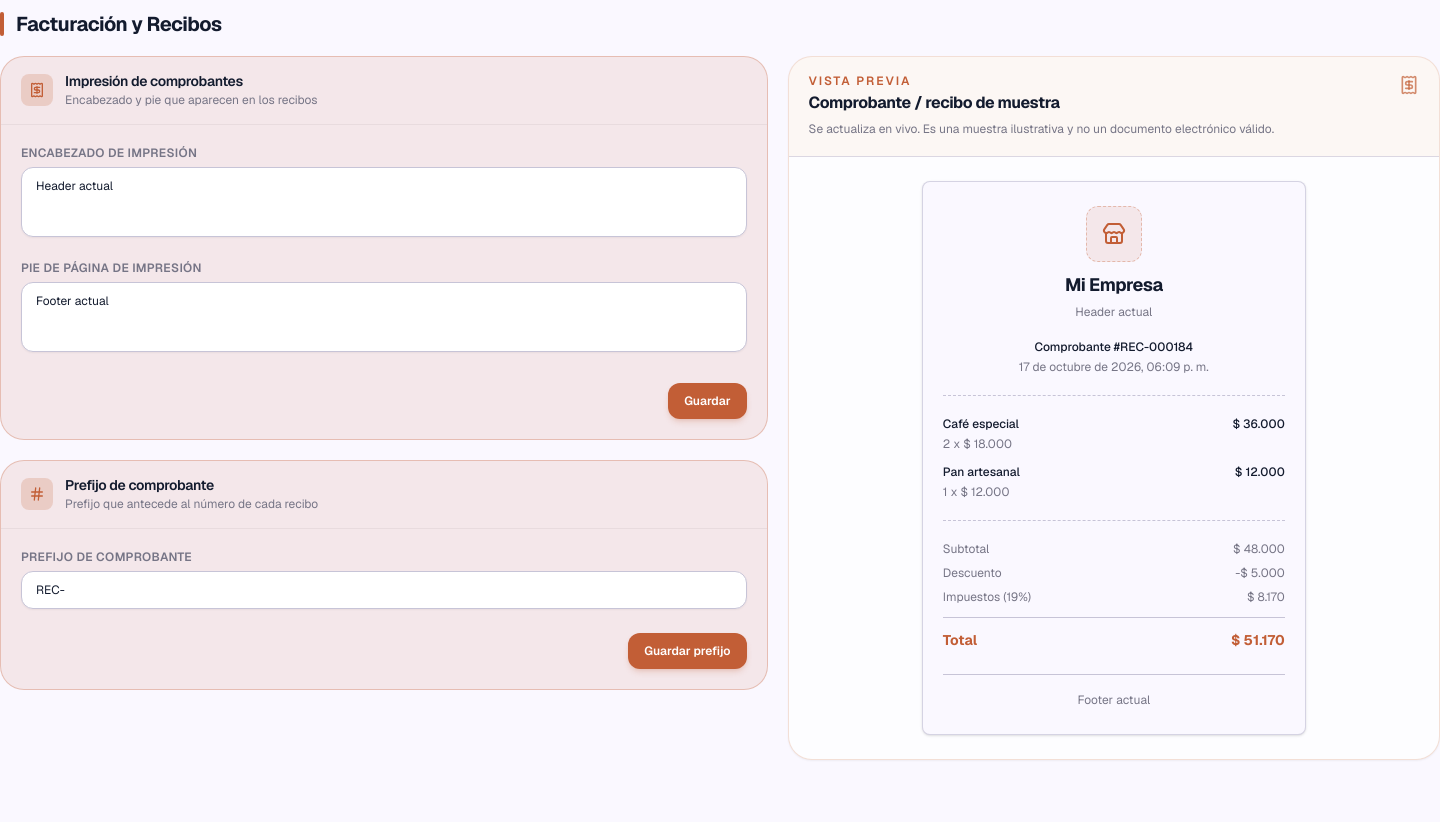
Test case: Invoicing & Receipts settings page › updates the preview as the form values change
Replace the text in the text box labelled "Encabezado de Impresión" with "Nuevo encabezado" at (384, 202), box [21,167,747,237]
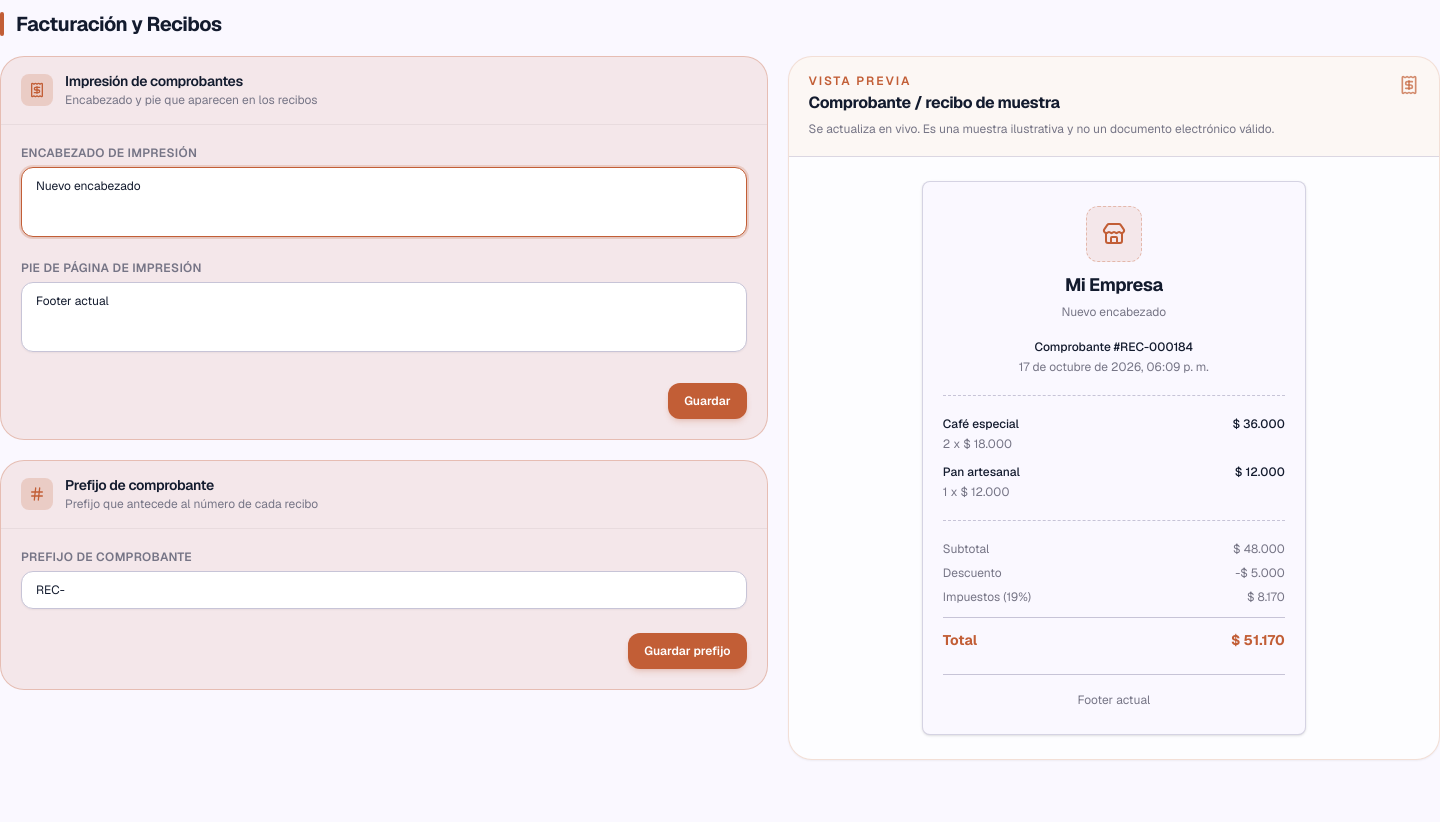
Replace the text in the field labelled "Prefijo de comprobante" with "FAC-" at (384, 590), box [21,571,747,609]
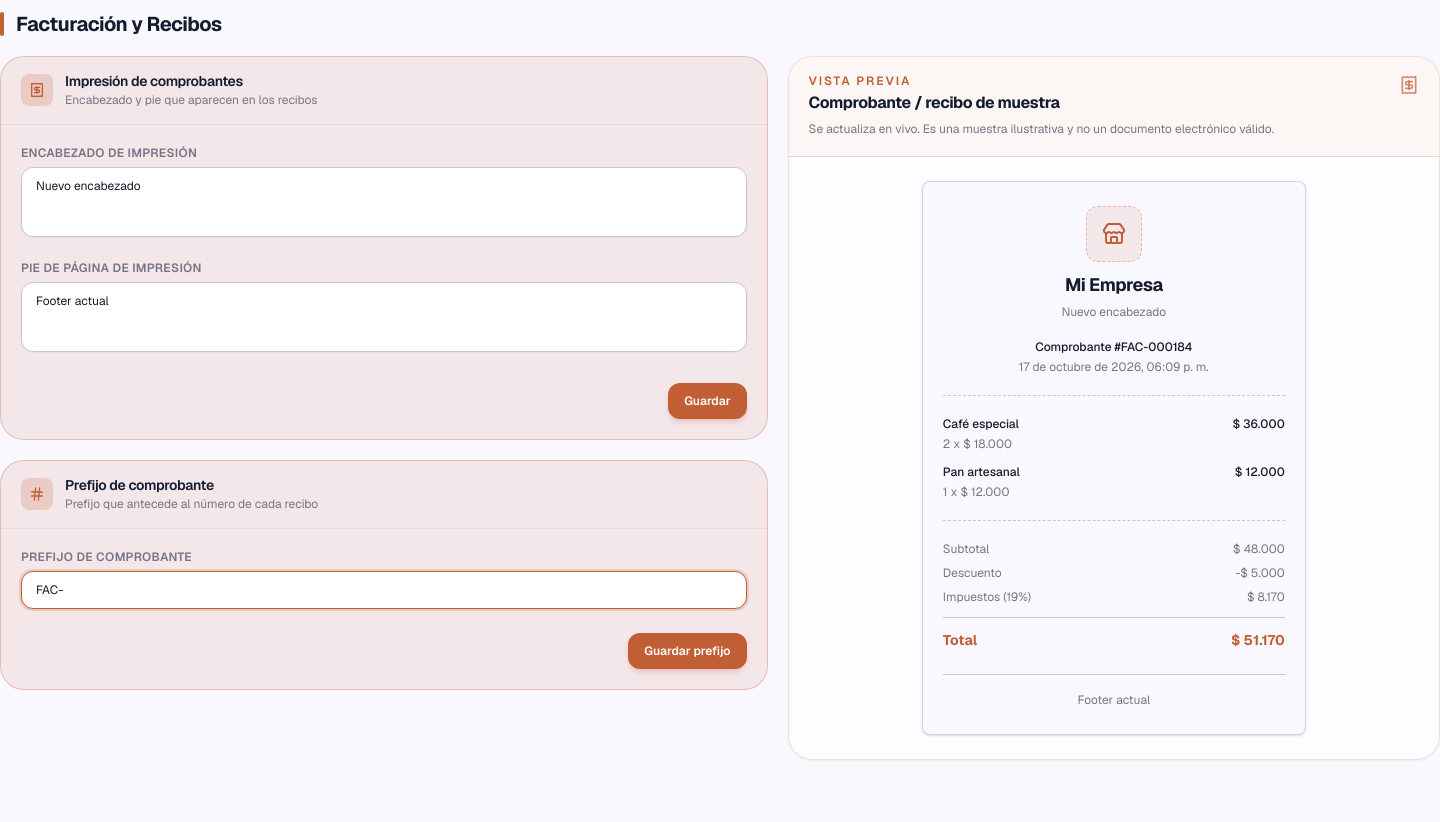
Now the text "Nuevo encabezado" is shown, box [1062,304,1166,320]
Now the text "Comprobante #FAC-000184" is shown, box [1035,339,1192,355]
